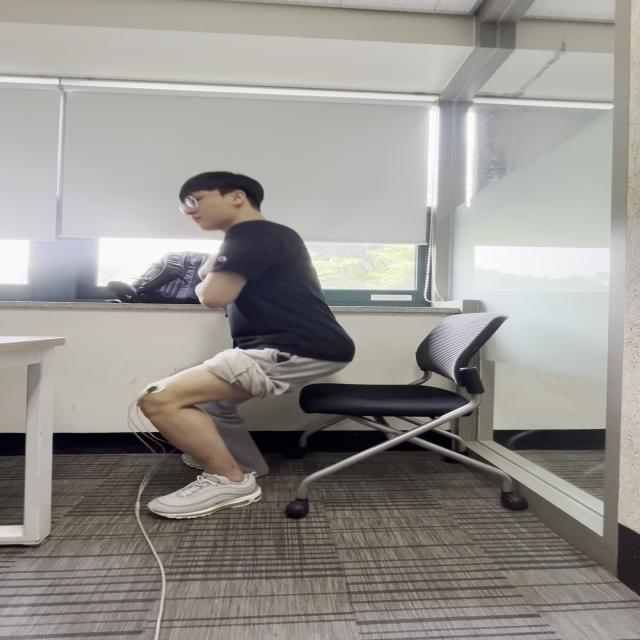stand: (103, 352, 277, 514), (195, 236, 354, 390), (198, 318, 370, 410)
